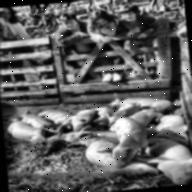boar: (5, 86, 192, 192)
